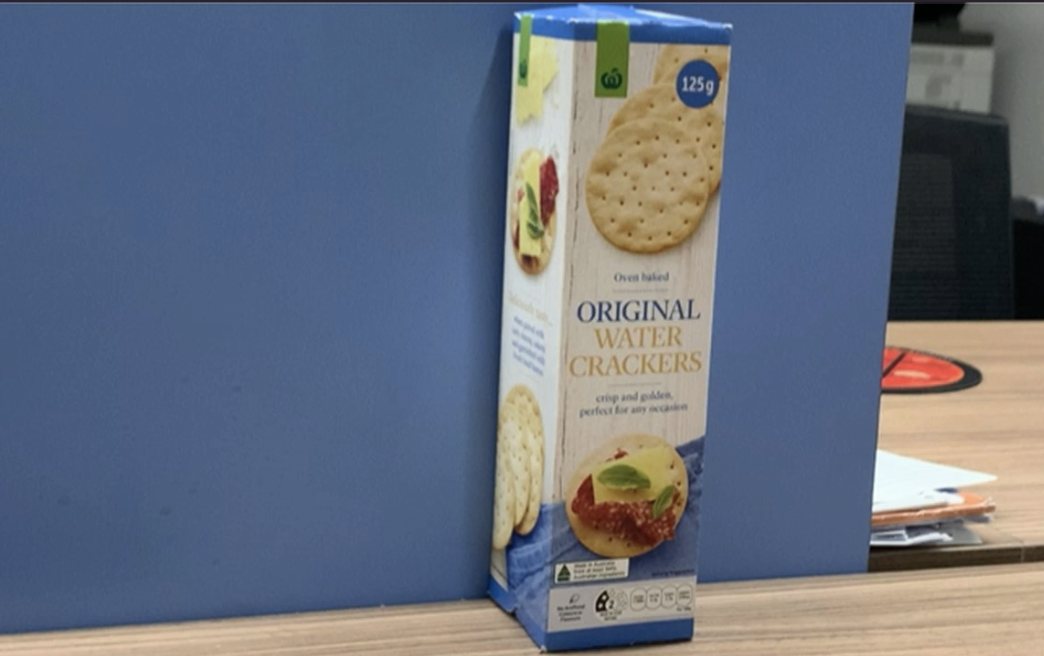crackers_150g: (551, 30, 717, 624)
